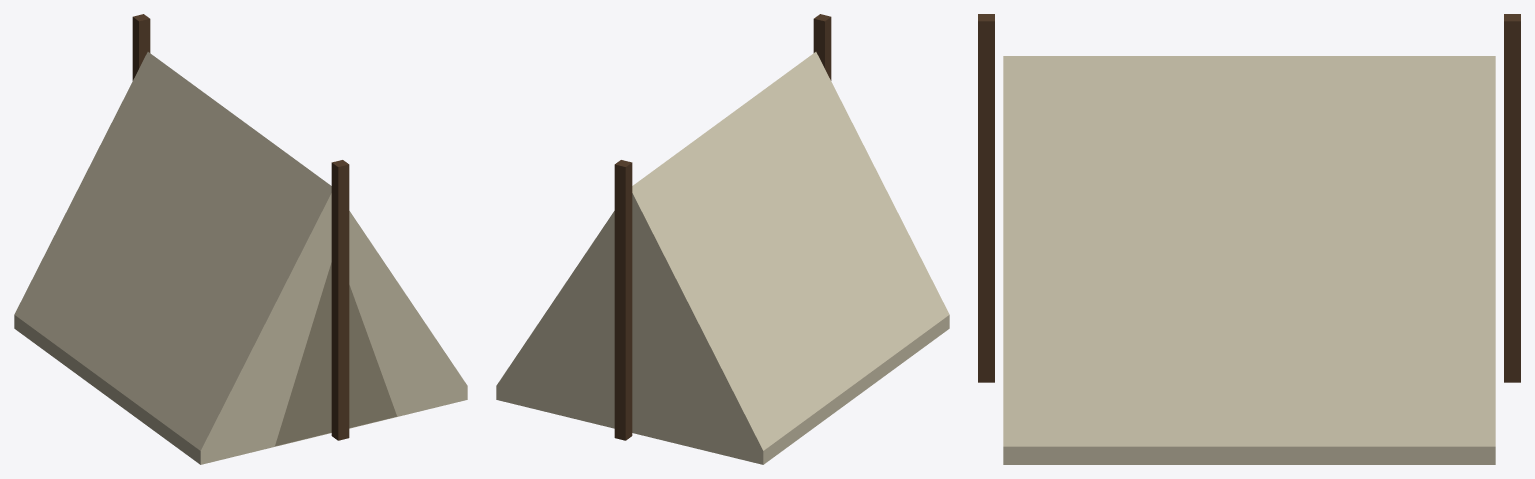
Rendered from wedge_tent.glb.
3 renders of one model, left to right at view 1: azimuth 30°, elevation 25°; view 2: azimuth 150°, elevation 25°; view 3: azimuth 270°, elevation 25°, orthographic. The views are drawn at different scales.
Visible parts, largest first — view 1: wedge_tent; view 2: wedge_tent; view 3: wedge_tent.
Part boxes in pixels (box(x1,y1,x2,y2)): wedge_tent: box(14, 14, 467, 464); wedge_tent: box(496, 14, 949, 464); wedge_tent: box(978, 14, 1520, 464).
Size of the model in its own units: 2.4 by 2.35 by 3.2.
